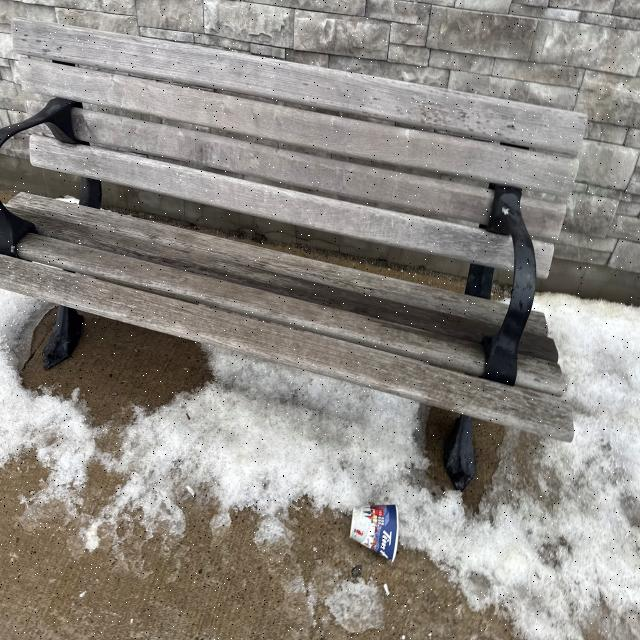Bench: (7, 36, 579, 441)
